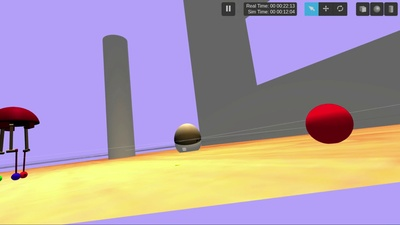mira_robot: (175, 123, 202, 152)
